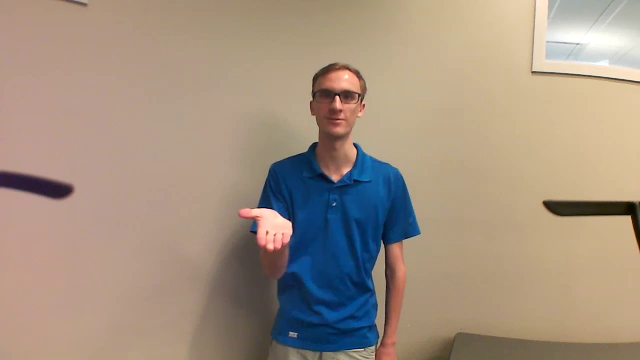land: (233, 198, 306, 257)
